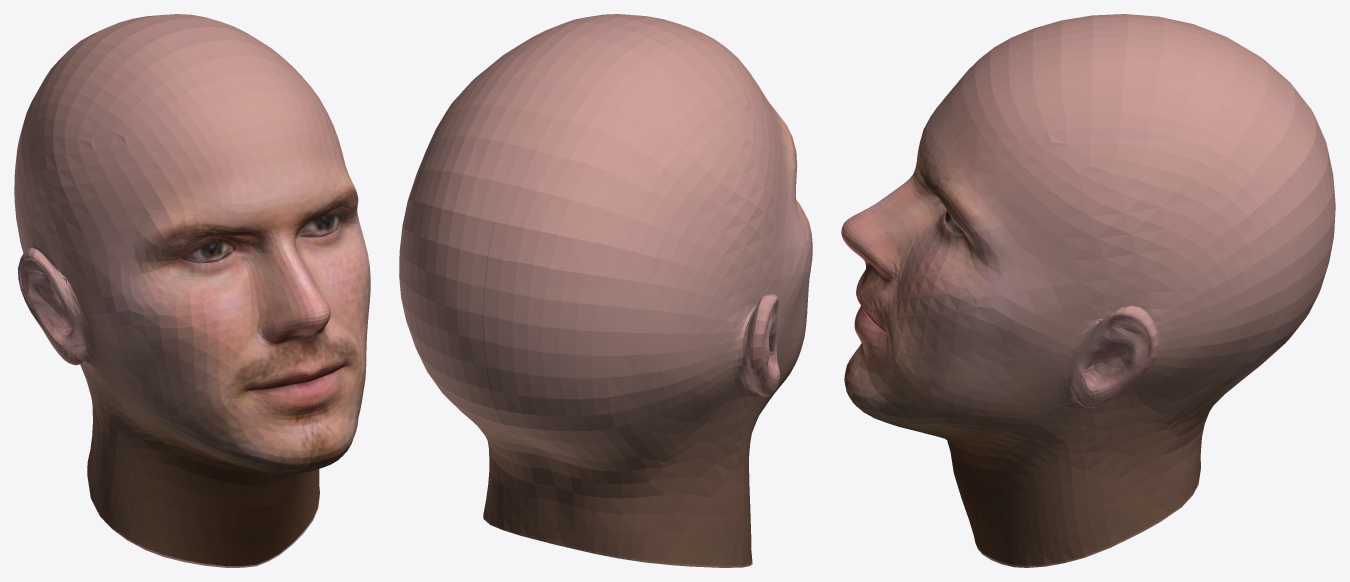
The model's file is David Backham.obj.
3 views of the same model, side by side, from view 1: azimuth 30°, elevation 25°; view 2: azimuth 150°, elevation 25°; view 3: azimuth 270°, elevation 25° (orthographic). The views are drawn at different scales.
Parts seen in each view (by area): view 1: skin_hi, eyeR_hi, eyeL_hi; view 2: skin_hi; view 3: skin_hi.
Boxes of the visible parts, box(x1,y1,x2,y2) form: skin_hi: box(14, 14, 370, 567); eyeR_hi: box(180, 239, 232, 263); eyeL_hi: box(297, 212, 340, 237); skin_hi: box(399, 14, 812, 567); skin_hi: box(841, 14, 1335, 567).
Size of the model in its own units: 190 by 281 by 245.
Materials: 7 (7 with a texture image).
